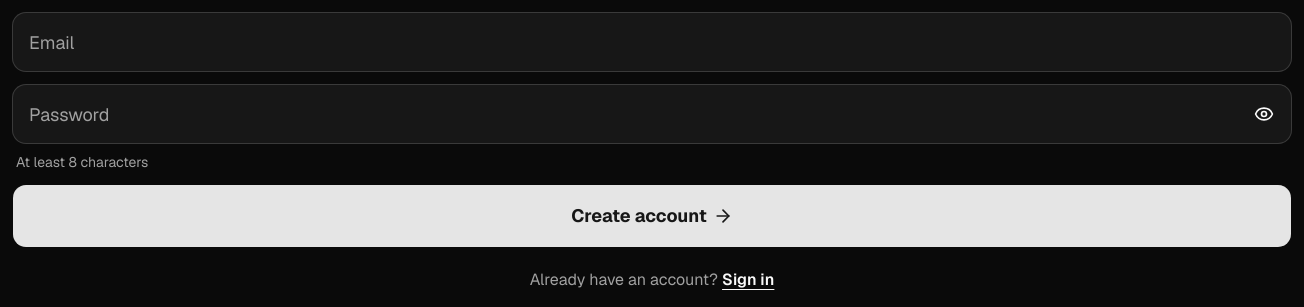
it: SignUpForm › refuses a short password before anything is sent
Type "ana@example.com" into the field labelled "Email" at [652, 42], box [12,12,1292,72]
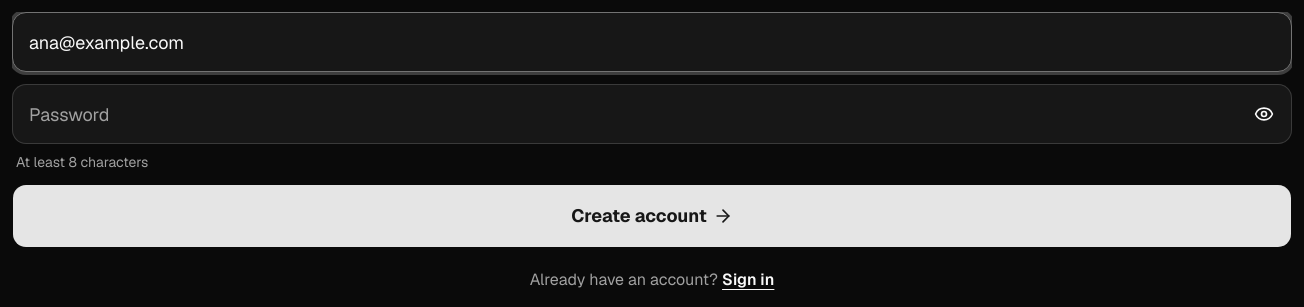
Type "short" into the password field labelled "Password" at [652, 114], box [12,84,1292,144]
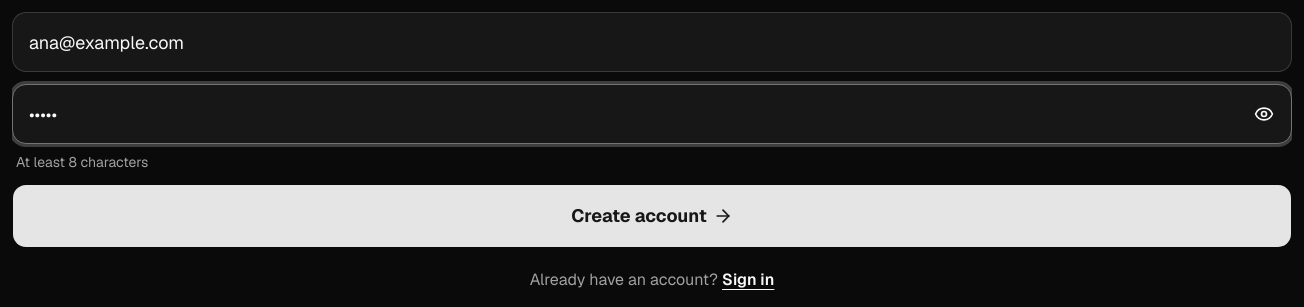
Click the button "Create account" at [652, 216], box [12,184,1292,248]
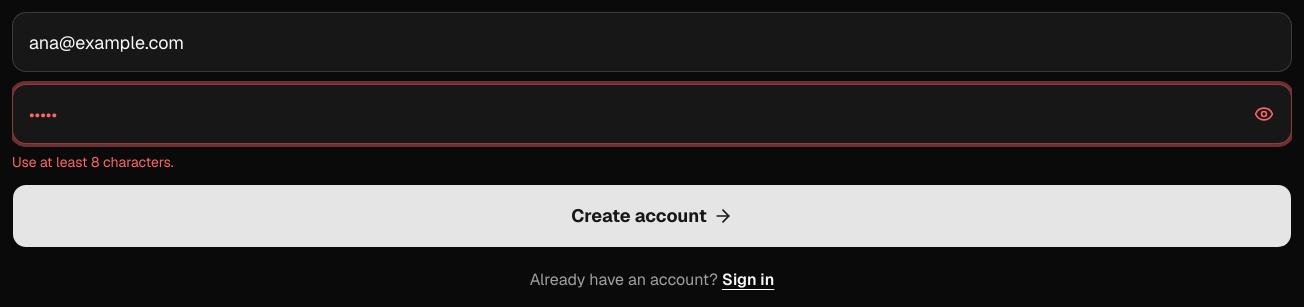
expect the text "Use at least 8 characters." is shown: met, box [12,153,174,171]
